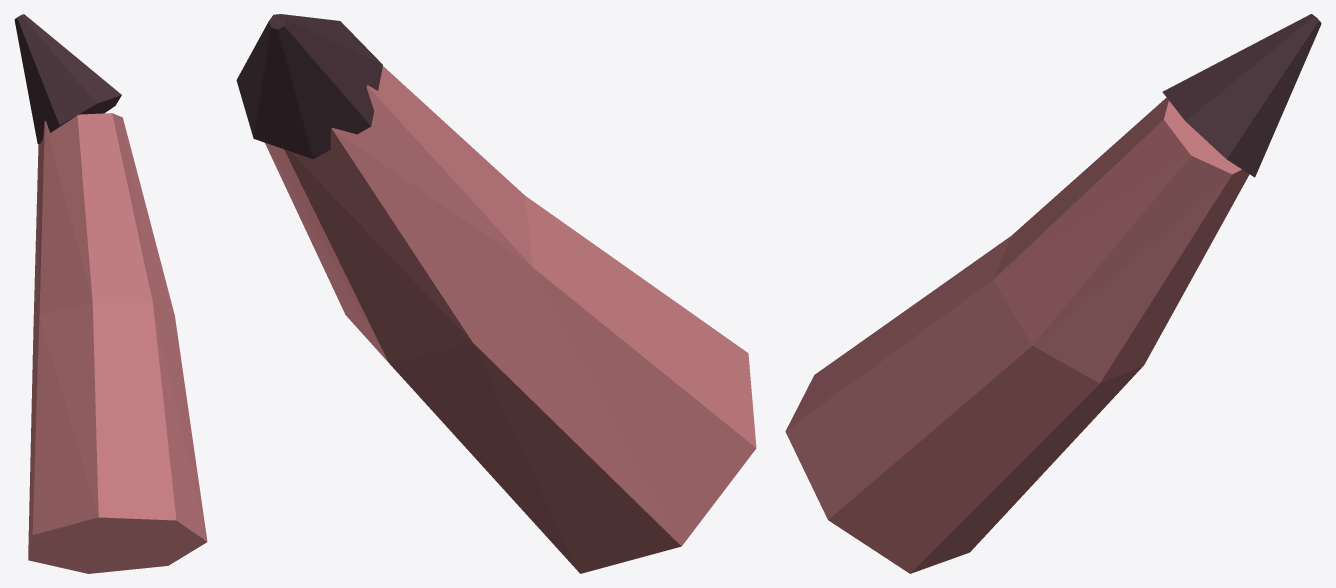
File: bulbfreak_appendage_1.obj
The picture shows the model from 3 angles, left to right: view 1: azimuth 30°, elevation 25°; view 2: azimuth 150°, elevation 25°; view 3: azimuth 270°, elevation 25°; orthographic projection. The views are drawn at different scales.
Visible parts, largest first — view 1: bulbfreak_appendage_1; view 2: bulbfreak_appendage_1; view 3: bulbfreak_appendage_1.
Boxes of the visible parts, <box> form: bulbfreak_appendage_1: <box>14,14,207,573</box>; bulbfreak_appendage_1: <box>236,14,756,573</box>; bulbfreak_appendage_1: <box>785,14,1321,573</box>.
Bounding box in the file's own units: 0.3842 × 0.7759 × 0.651.
